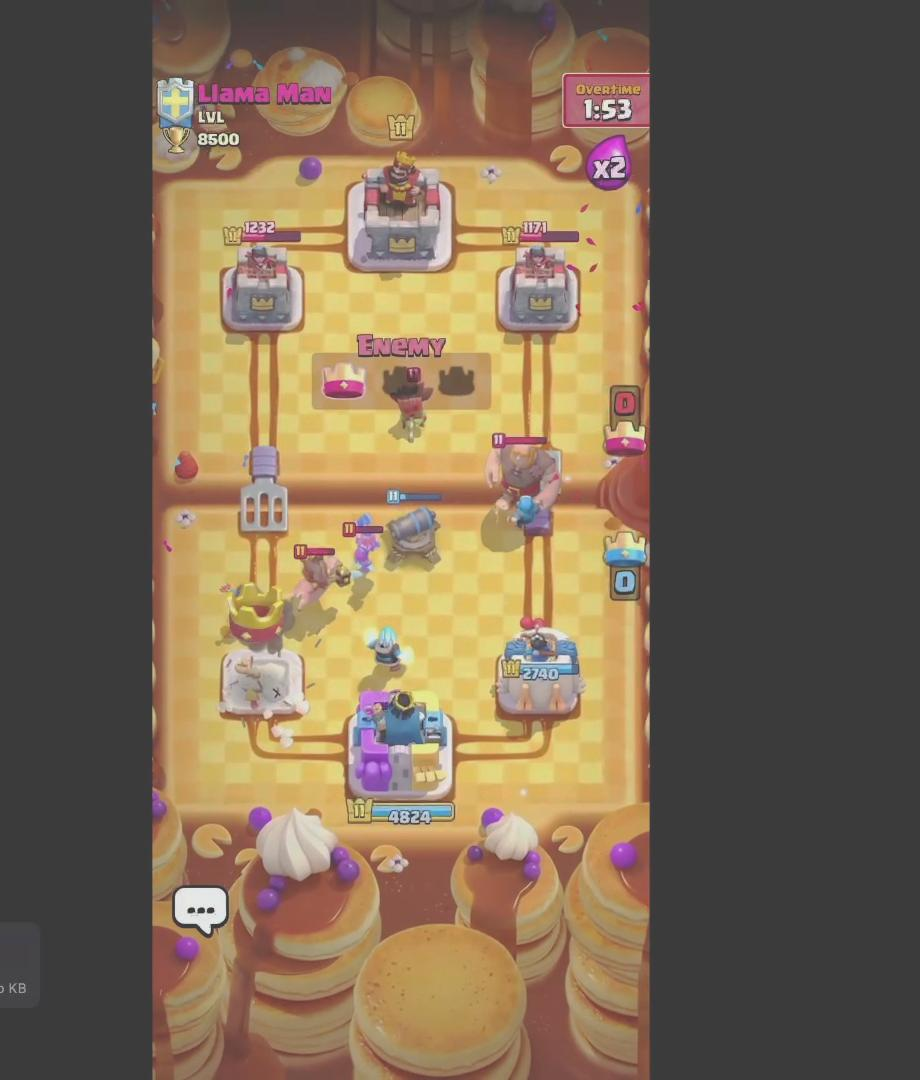Dart Goblin: (391, 366, 433, 443)
Giant: (486, 430, 562, 523)
Hog Rider: (284, 540, 351, 612)
Valkyrie: (342, 513, 383, 574)
